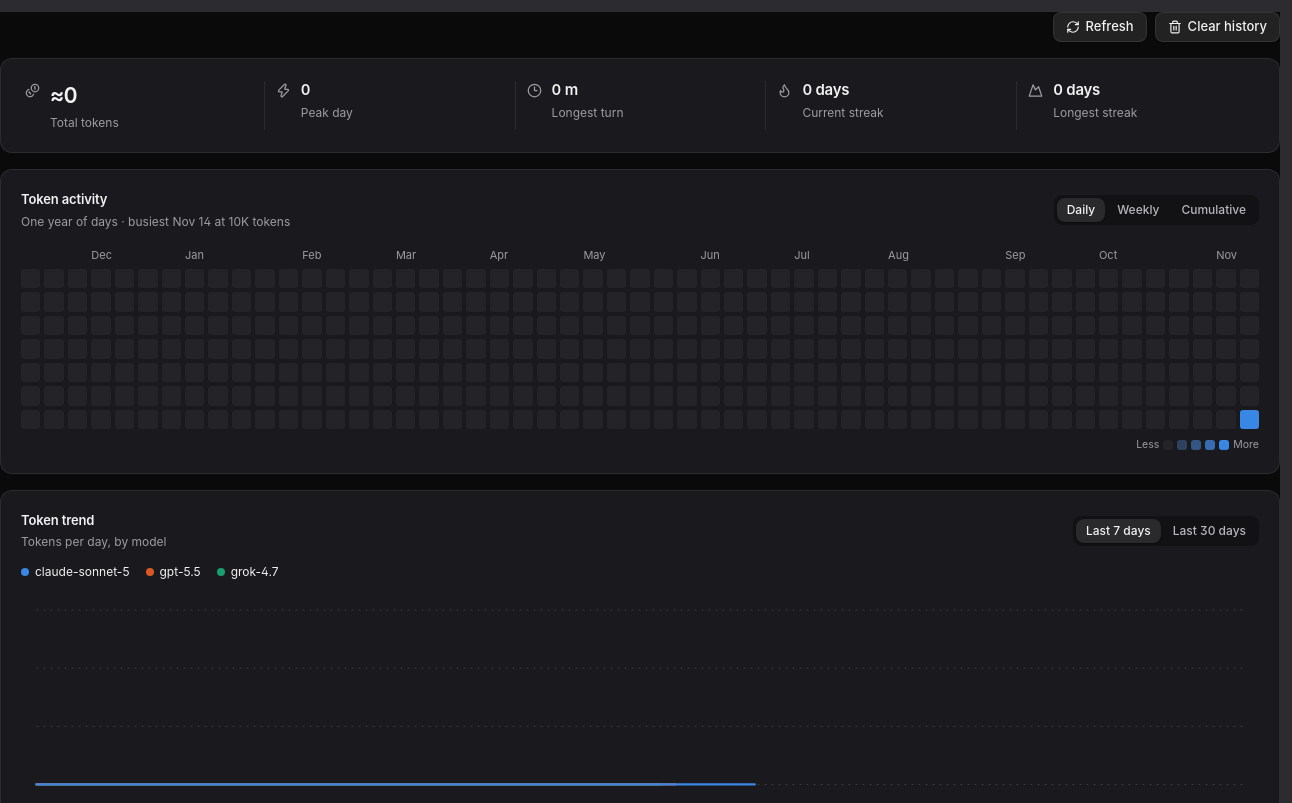
Test case: UsageView › answers a heatmap cell on hover at once, without a native title
Hover over the cell named "Nov 14, 2026 · 10K tokens" at coordinates (1249, 419), box [1240, 410, 1259, 429]
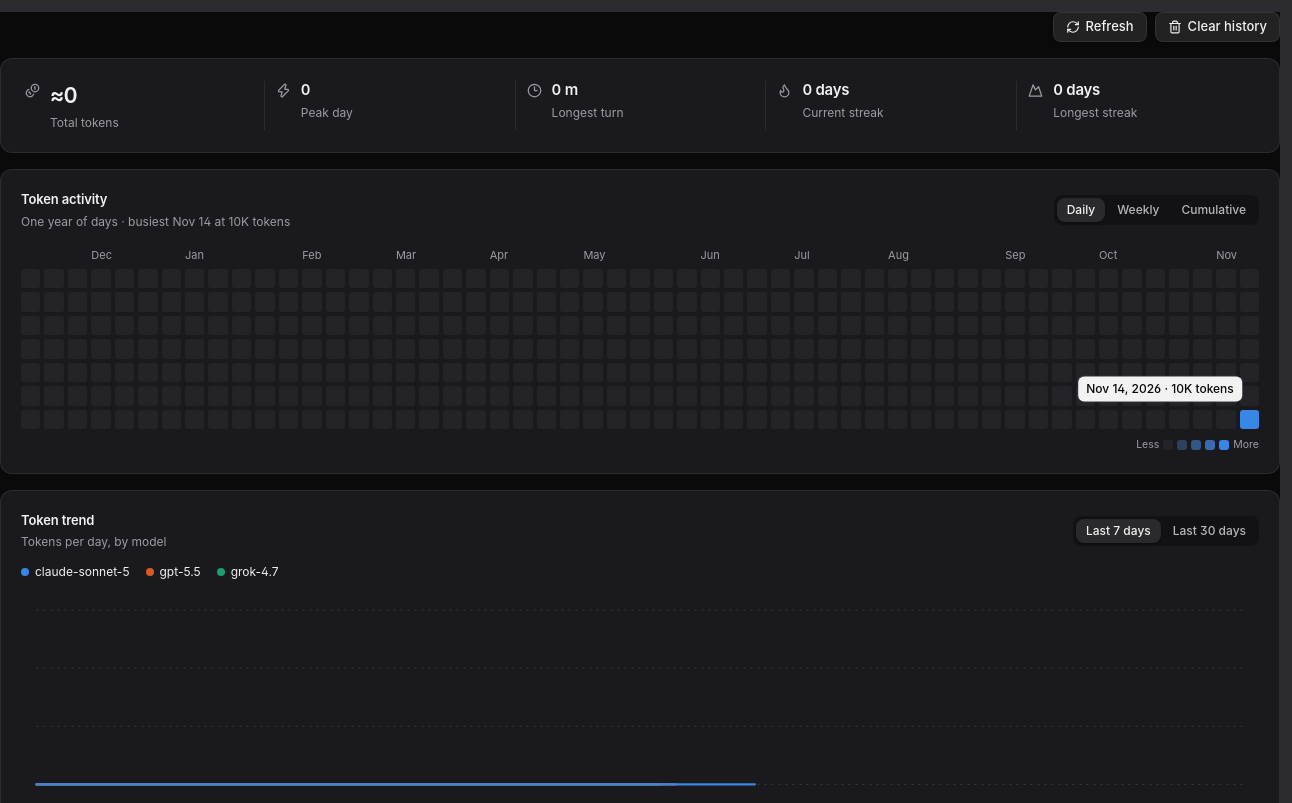
Move the pointer off the table named "Daily token activity", box [21, 269, 1259, 429]
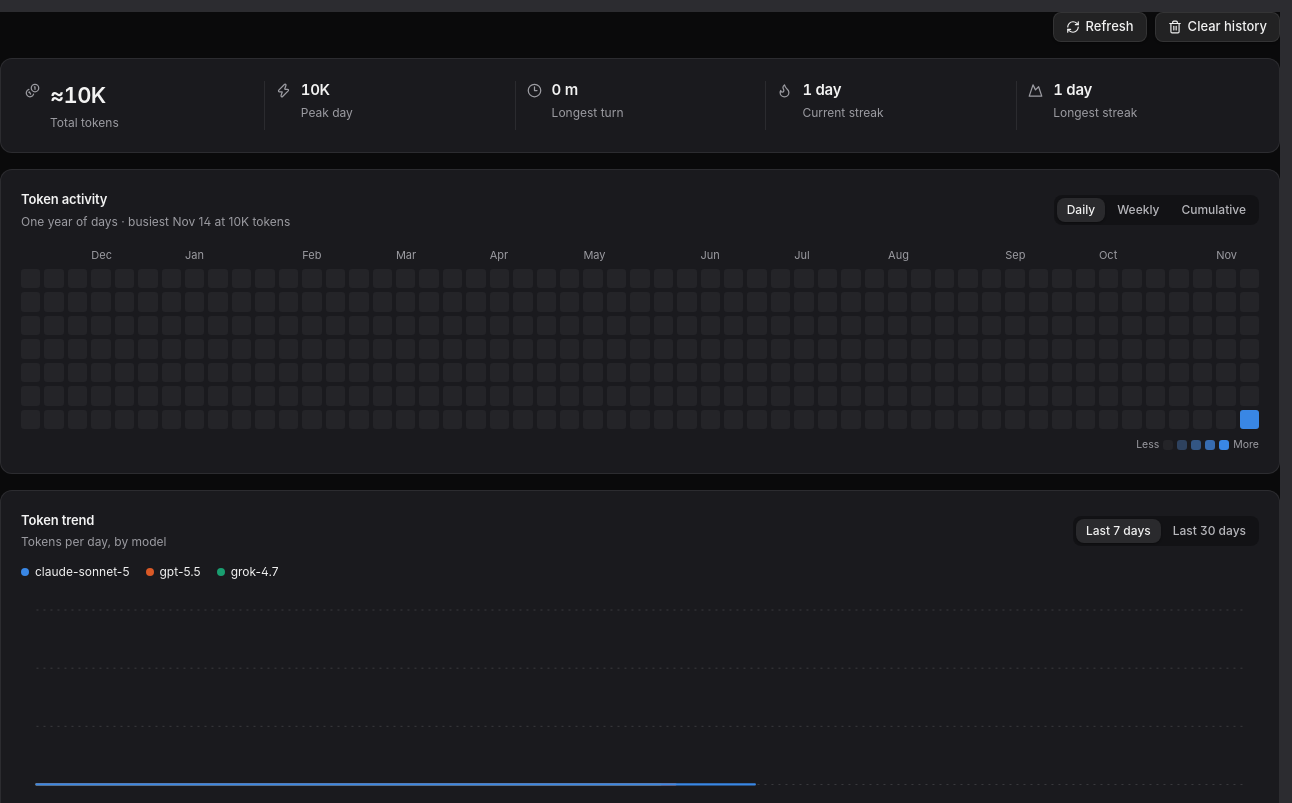
Now the tooltip "Nov 14, 2026 · 10K tokens" is gone
